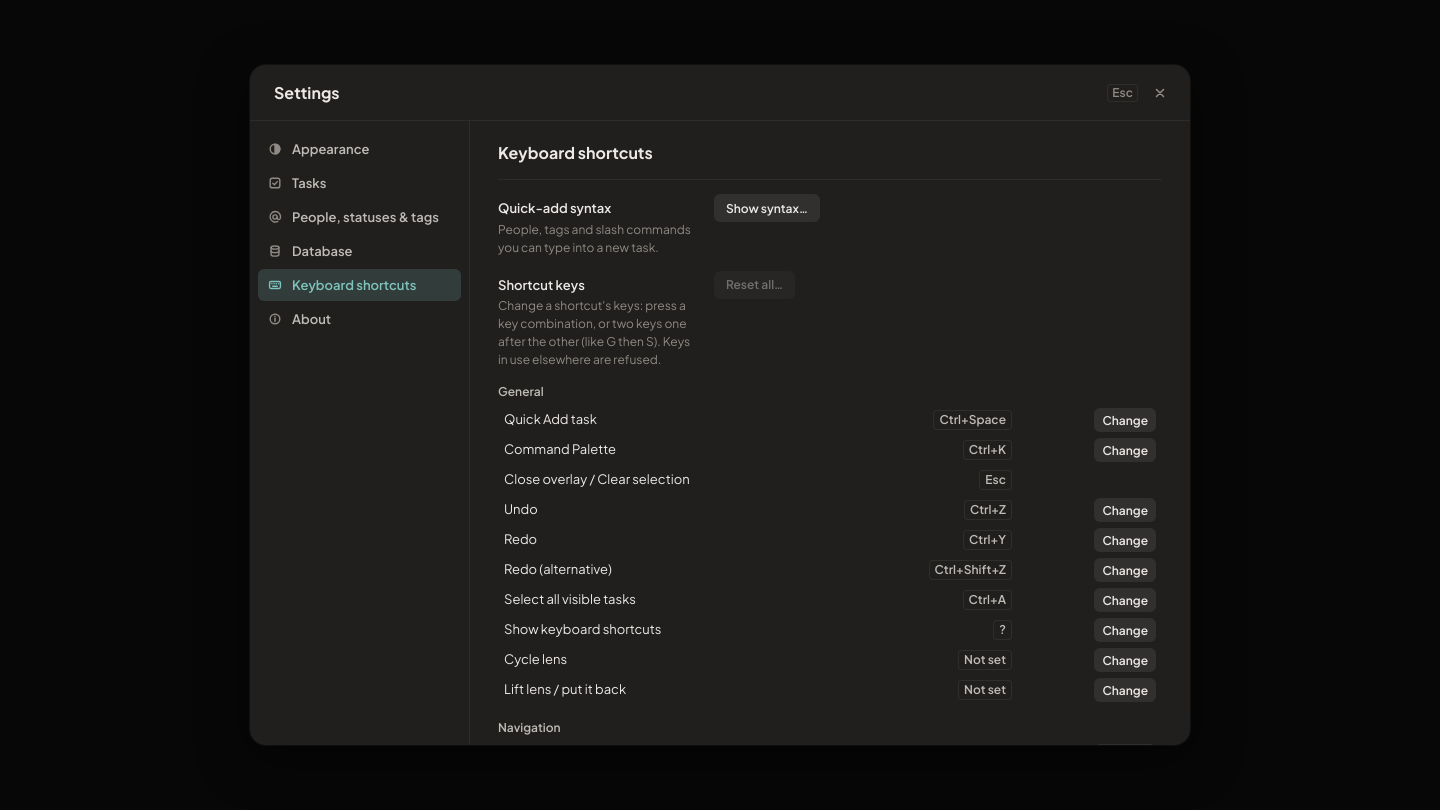
it: Settings › Keyboard shortcuts editor › refuses a browser key
This screenshot has width=1440, height=810.
Click the button "Change" next to "Ctrl+Z".
click(1125, 510)  # box [1094,498,1156,522]
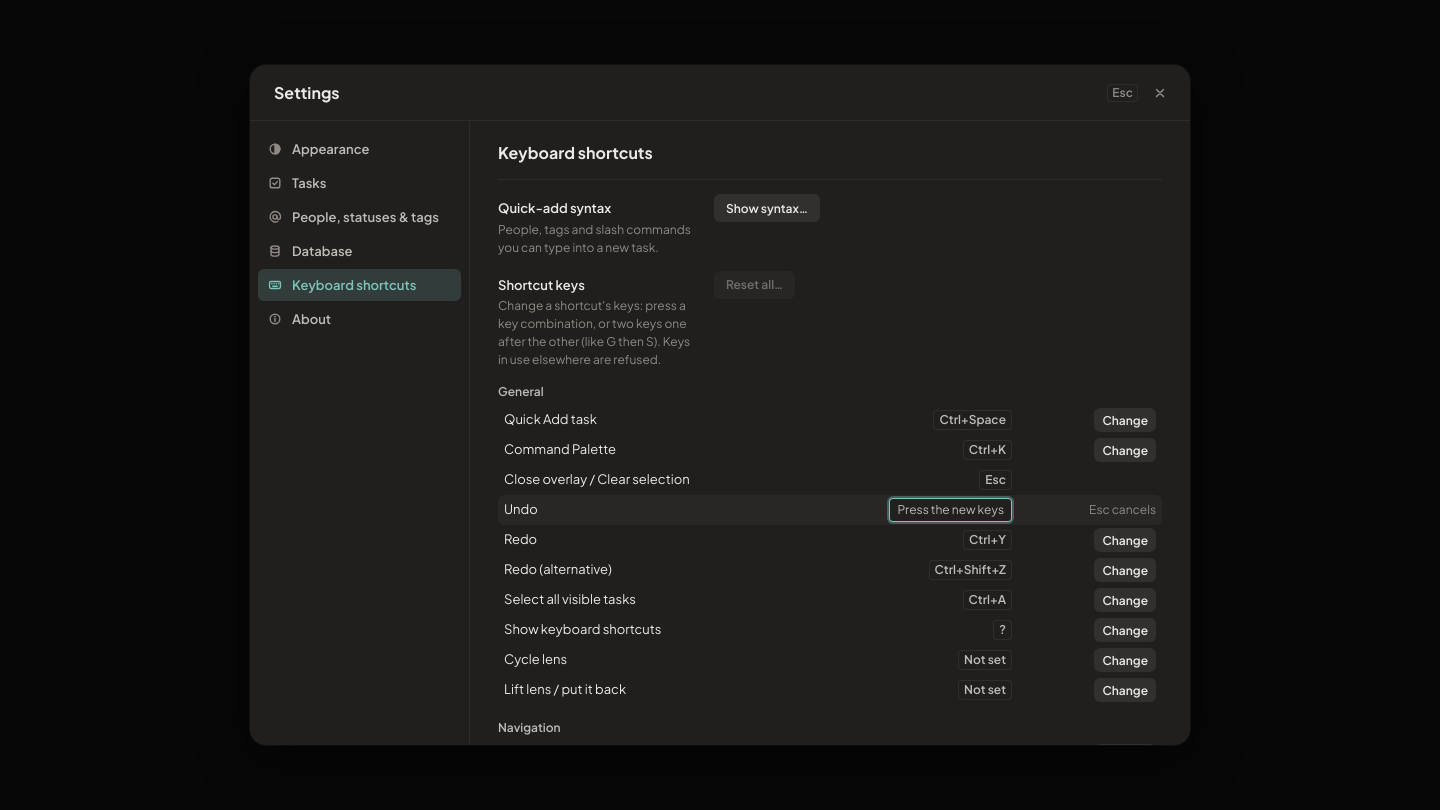
Press w in the field labelled "Press the new keys", box [889,498,1012,522]
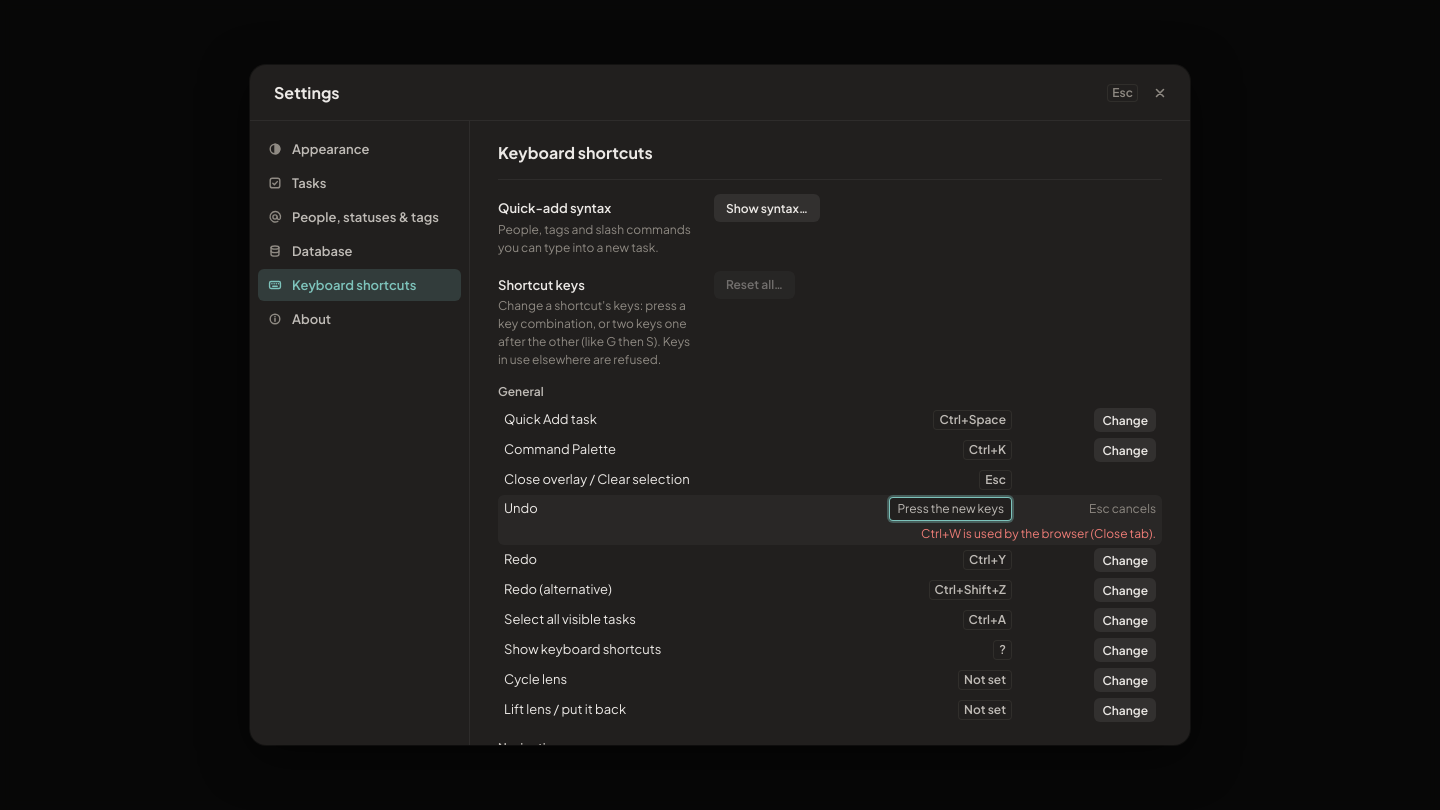
Now the message reads "Ctrl+W is used by the browser (Close tab).", box [921,526,1156,541]
